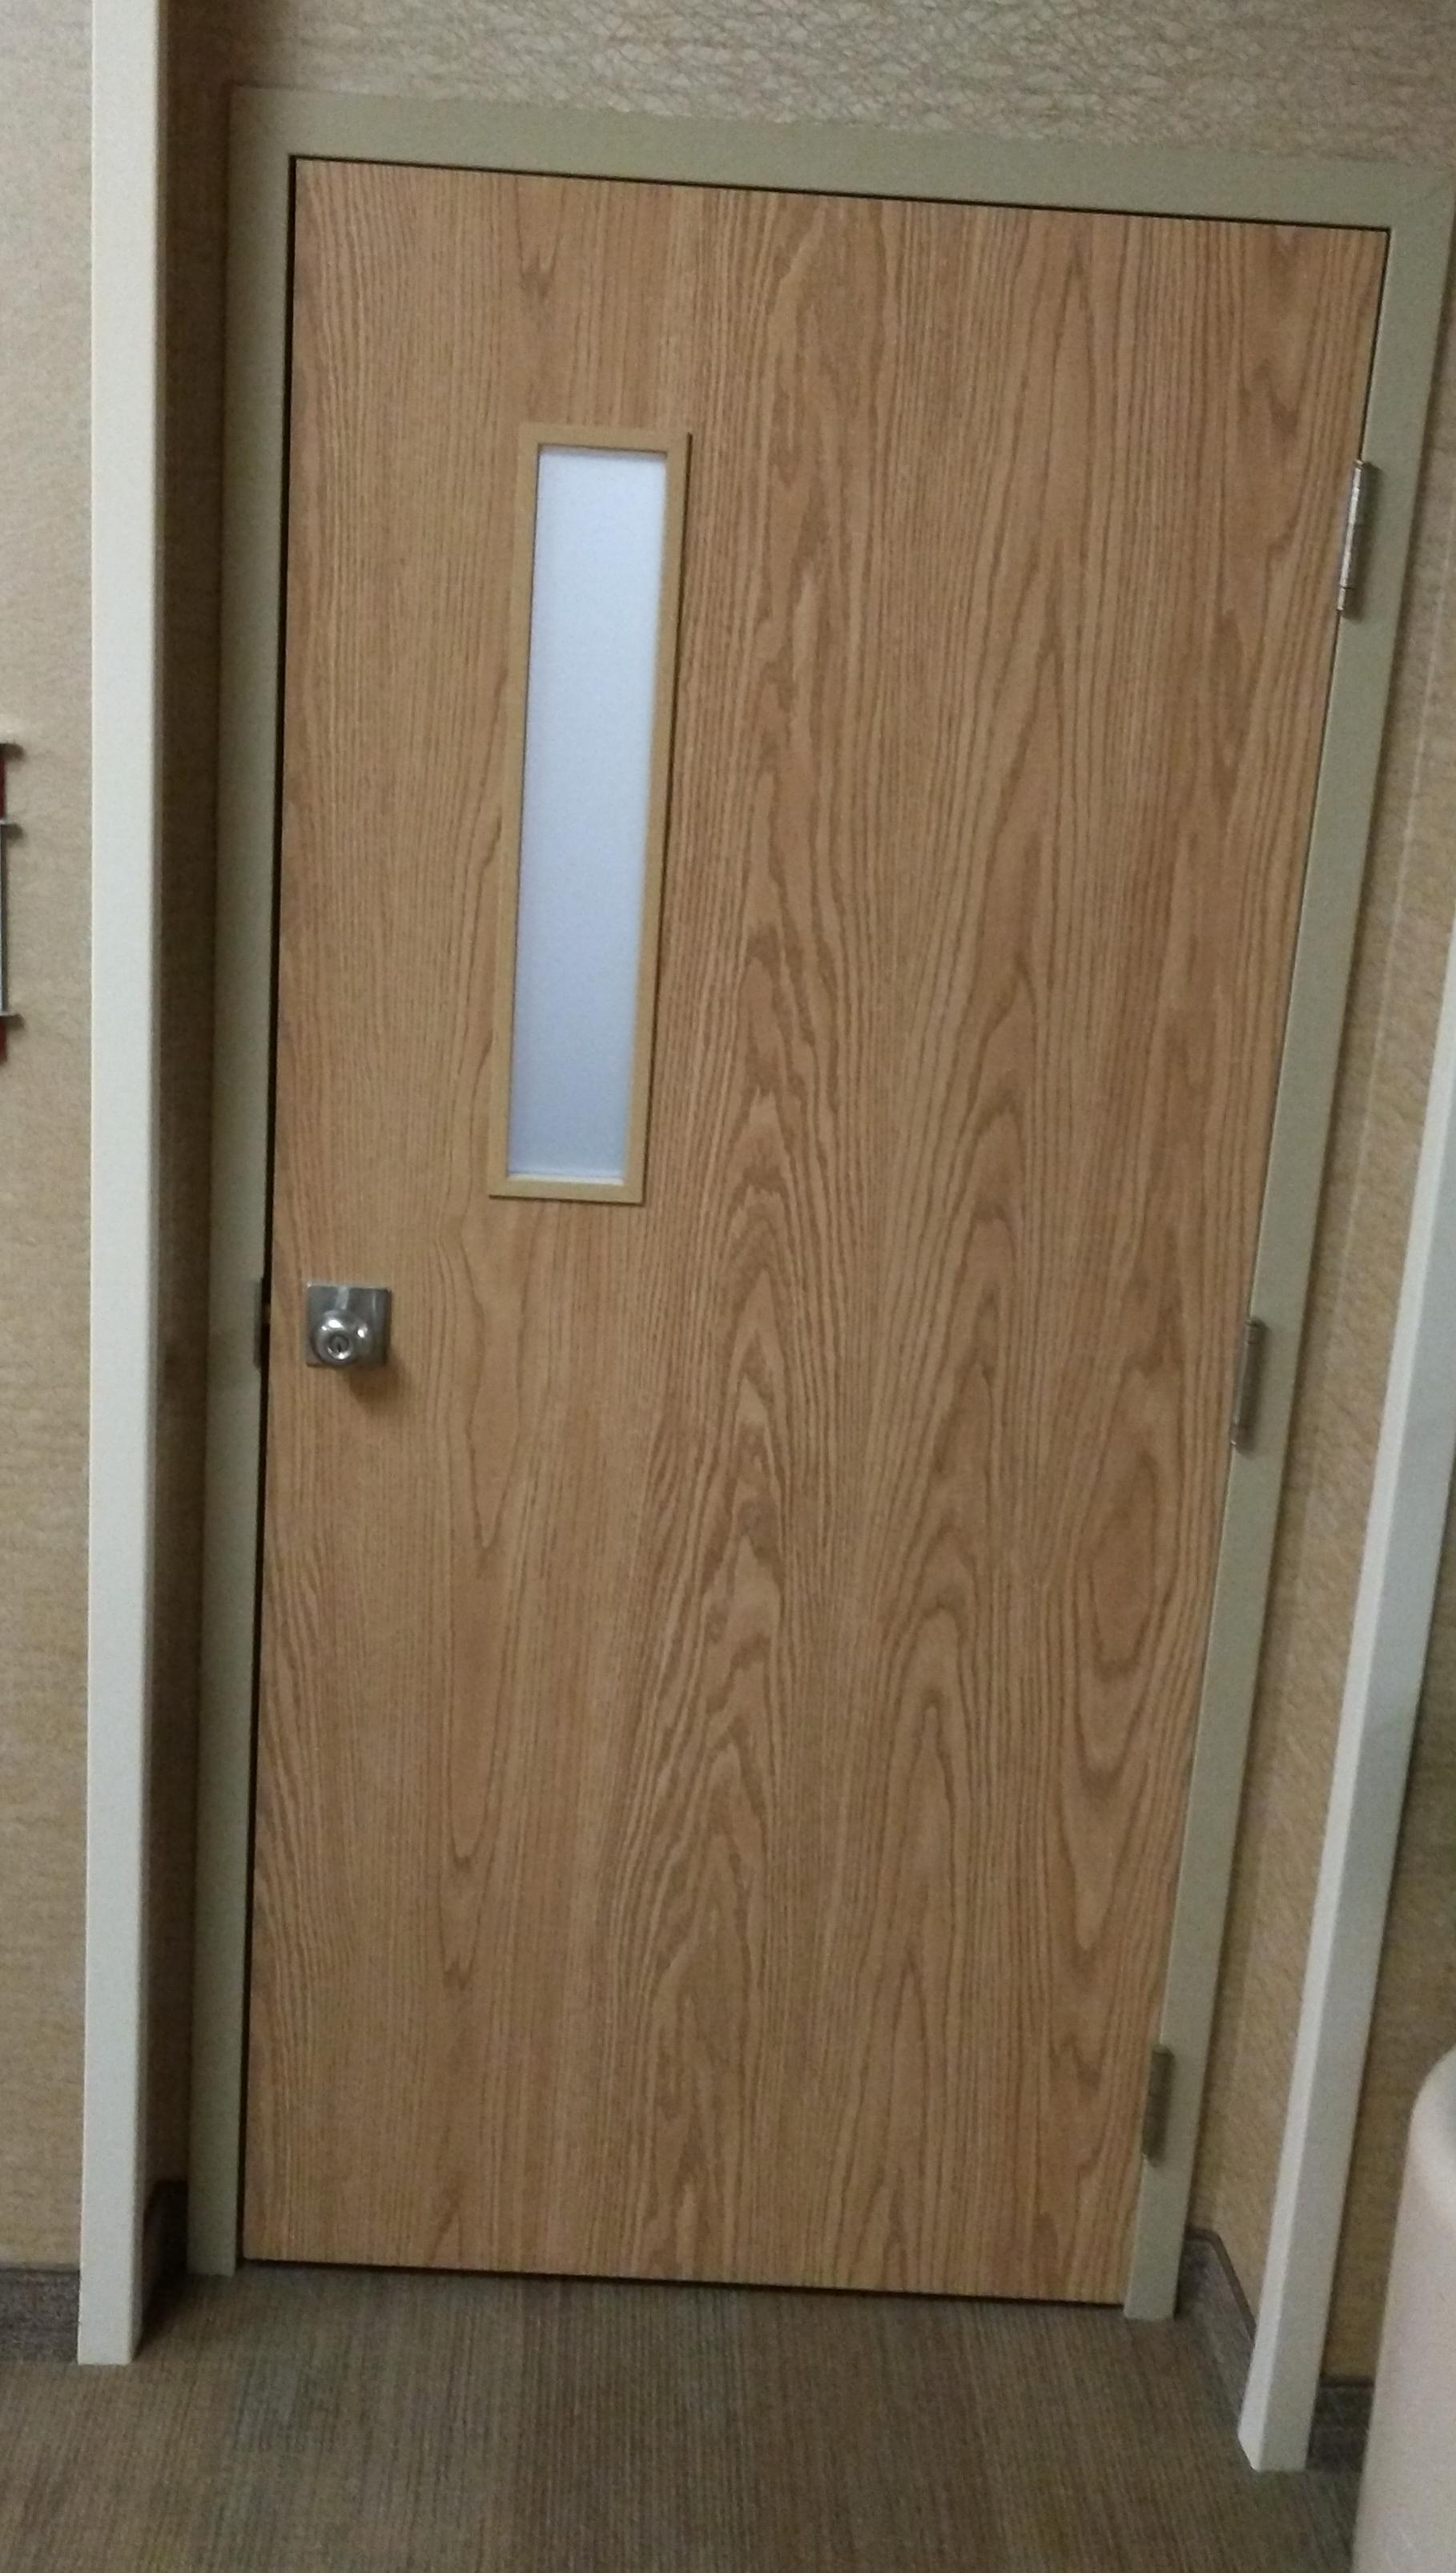handle: (299, 1279, 385, 1408)
